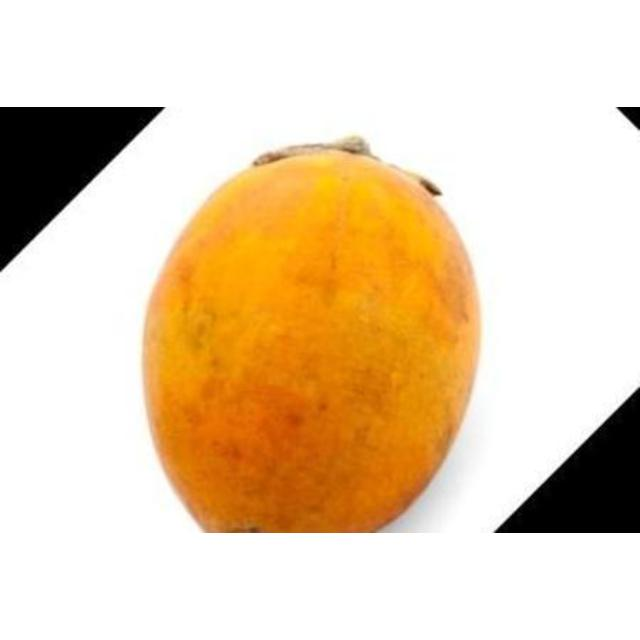good: (139, 147, 484, 532)
